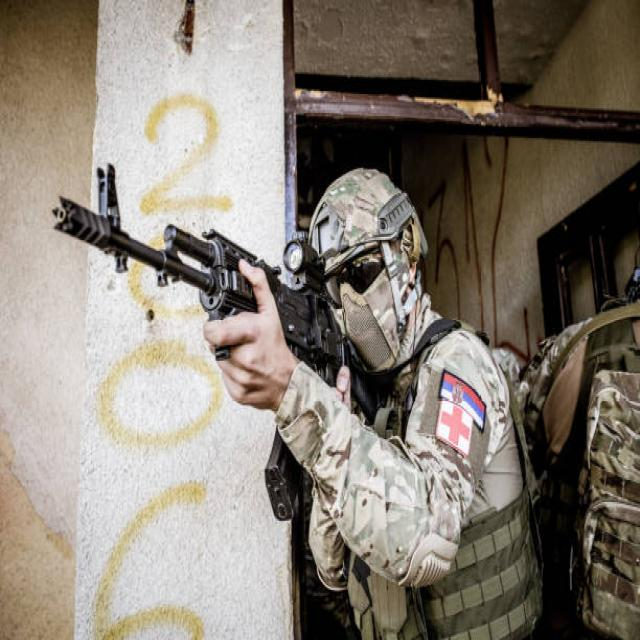soldier: (54, 167, 532, 640)
